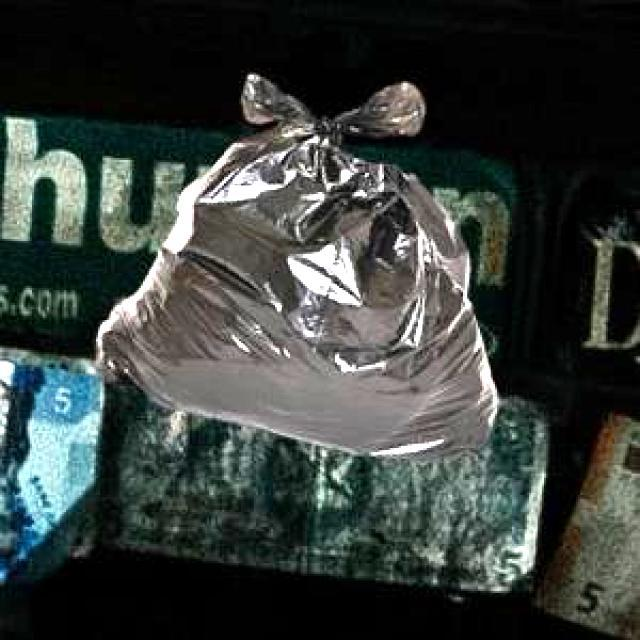Garbage_Bag: (93, 71, 494, 460)
